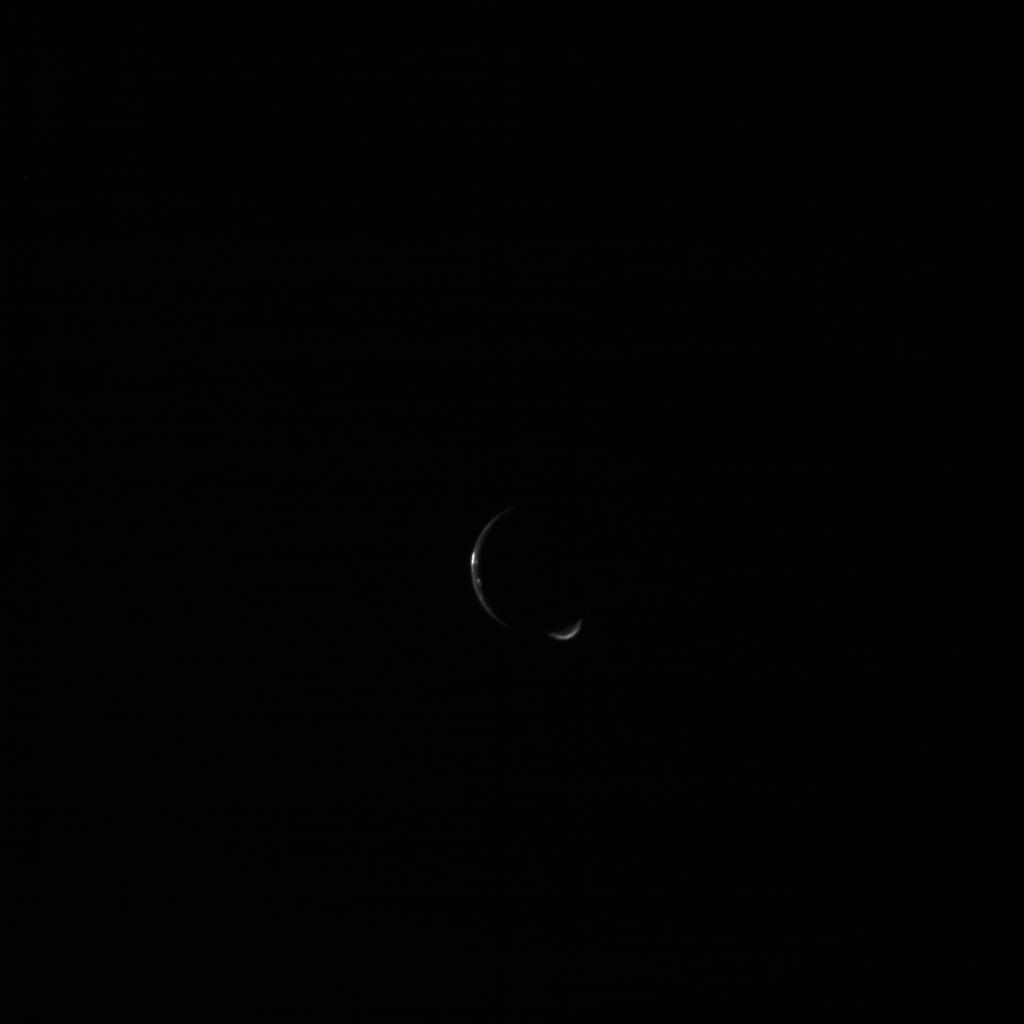plumes: (550, 618, 583, 642)
